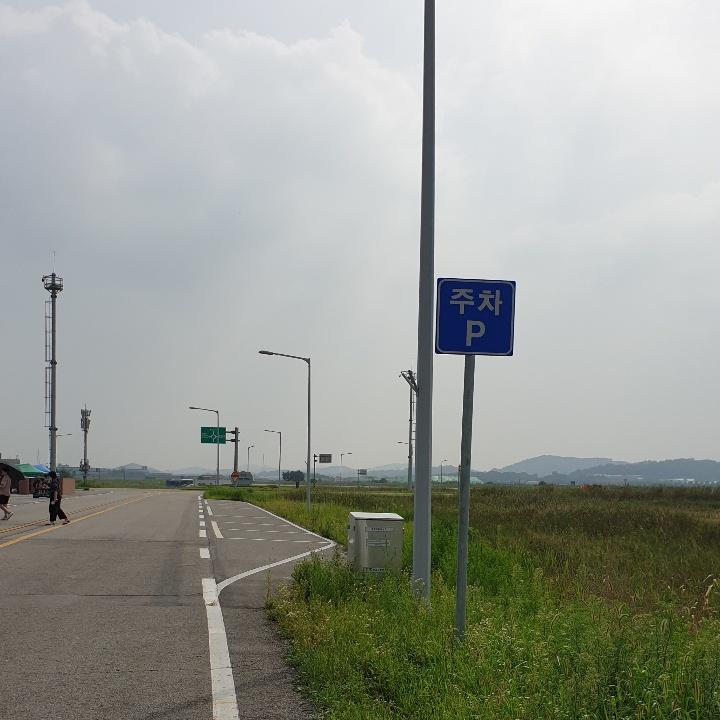parking: (458, 313, 491, 355)
